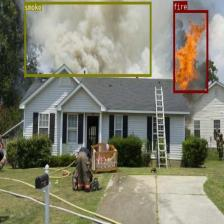fire: (173, 10, 208, 92)
smoke: (24, 1, 151, 76)
